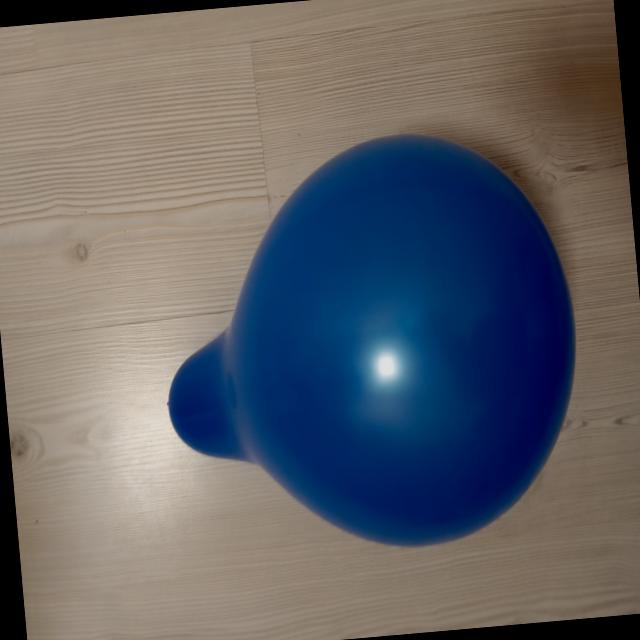balloon: (168, 134, 575, 545)
